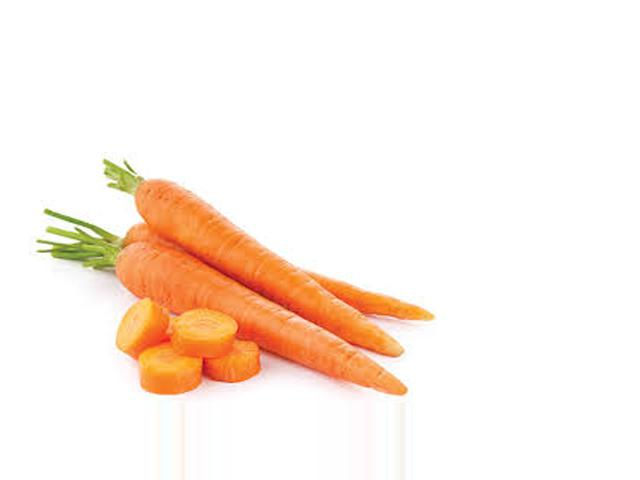carrot: (80, 234, 405, 395)
